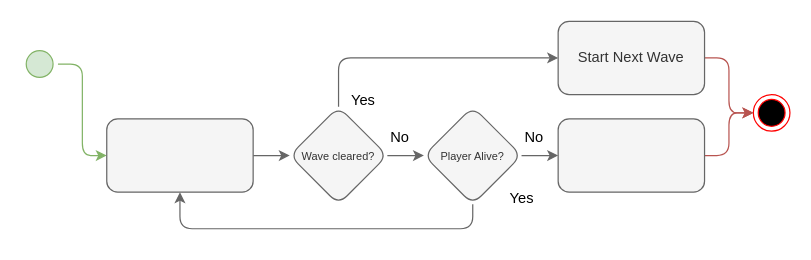
The diagram is 811 pixels wide and 260 high, and some of its shapes have lost their labels. Each missing label, with the centre of its shape:
Player fights Enemies: point 179,155
Restart Wave: point 631,155
